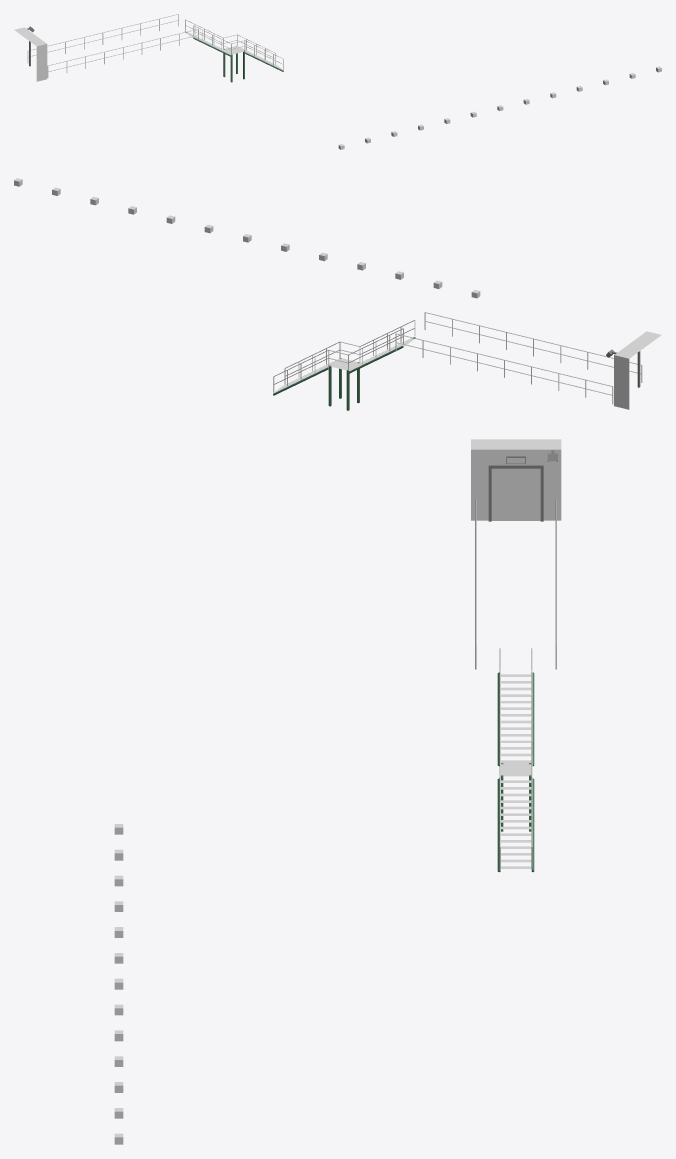
File: tank_stairs.glb
3 renders of one model, top to bottom at view 1: azimuth 30°, elevation 25°; view 2: azimuth 150°, elevation 25°; view 3: azimuth 270°, elevation 25°, orthographic. The views are drawn at different scales.
Parts seen in each view (by area): view 1: TK_Galv, TK_Concrete, TK_Paint, TK_Grate; view 2: TK_Galv, TK_Concrete, TK_Paint, TK_Grate; view 3: TK_Concrete, TK_Grate, TK_Void, TK_Galv, TK_Paint.
Boxes of the visible parts, box(x1,y1,x2,y2) form: TK_Galv: box(27, 14, 283, 77); TK_Concrete: box(14, 27, 661, 149); TK_Paint: box(185, 31, 283, 82); TK_Grate: box(186, 32, 282, 69); TK_Galv: box(273, 312, 642, 404); TK_Concrete: box(14, 178, 661, 409); TK_Paint: box(273, 337, 415, 410); TK_Grate: box(274, 338, 414, 392); TK_Concrete: box(114, 439, 561, 1144); TK_Grate: box(501, 674, 531, 868); TK_Void: box(491, 468, 540, 520); TK_Galv: box(475, 498, 556, 869); TK_Paint: box(497, 672, 534, 872).
Bounding box in the file's own units: 50.68 × 8.41 × 18.28.
